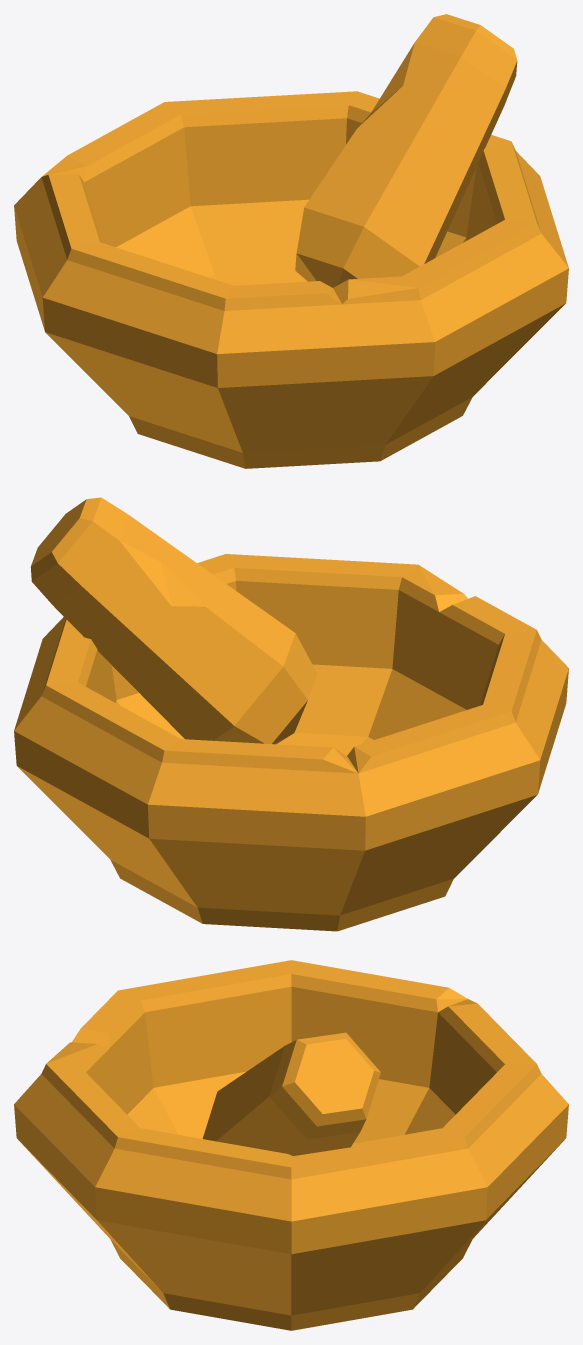
Rendered from SM_Mortar_Stone_Empty.fbx.
3 renders of one model, top to bottom at view 1: azimuth 30°, elevation 25°; view 2: azimuth 150°, elevation 25°; view 3: azimuth 270°, elevation 25°, orthographic. The views are drawn at different scales.
Parts seen in each view (by area): view 1: mortar-stone-empty; view 2: mortar-stone-empty; view 3: mortar-stone-empty.
Boxes of the visible parts, x1,y1,x2,y2 form: mortar-stone-empty: (14,14,568,468); mortar-stone-empty: (14,497,568,931); mortar-stone-empty: (14,960,568,1330).
Bounding box in the file's own units: 0.2551 × 0.1557 × 0.2551.
